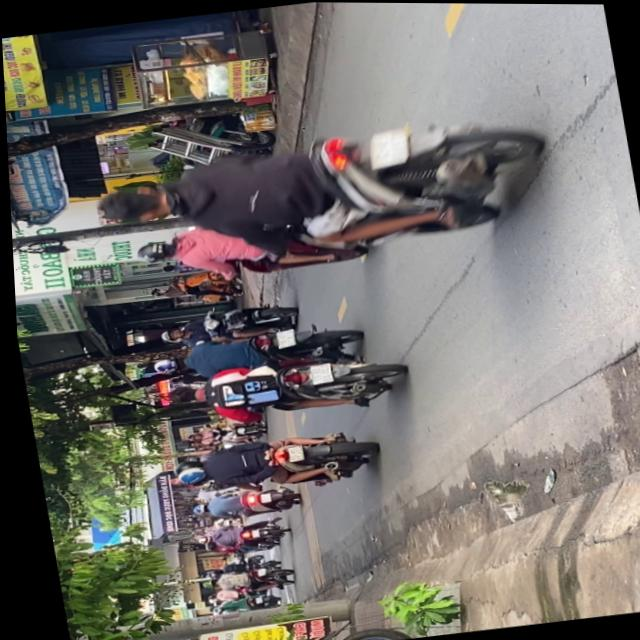helmet: (129, 235, 174, 262), (147, 352, 186, 374), (169, 461, 204, 484)
licenseplate: (82, 98, 560, 286), (151, 348, 406, 432), (162, 420, 376, 501), (142, 315, 362, 386)
motorcyclist: (91, 176, 178, 227), (159, 381, 200, 405)
nohelmet: (364, 124, 408, 166), (304, 361, 329, 382), (270, 327, 291, 346), (280, 443, 299, 461)
